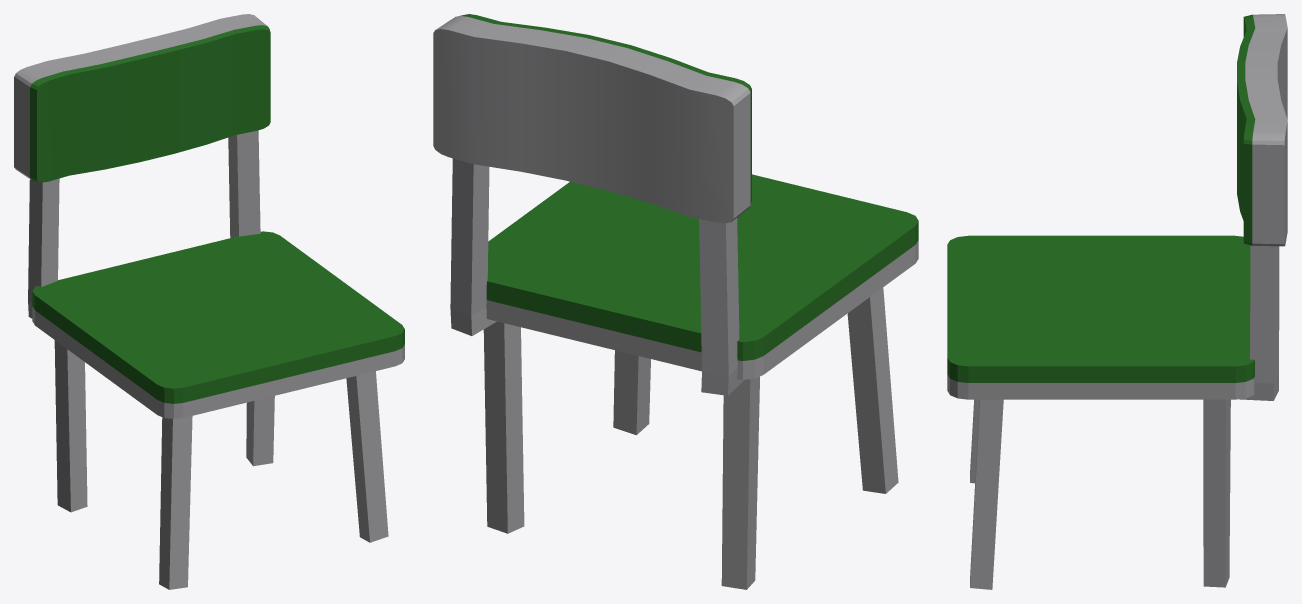
File: green_chair.glb
The picture shows the model from 3 angles, left to right: view 1: azimuth 30°, elevation 25°; view 2: azimuth 150°, elevation 25°; view 3: azimuth 270°, elevation 25°; orthographic projection. The views are drawn at different scales.
Visible parts, largest first — view 1: Cube.001; view 2: Cube.001; view 3: Cube.001.
Part boxes in pixels (left/top/right/bottom): Cube.001: left=14, top=14, right=404, bottom=589; Cube.001: left=433, top=14, right=918, bottom=589; Cube.001: left=947, top=14, right=1287, bottom=589.
Bounding box in the file's own units: 0.7088 × 1.17 × 0.7805.
